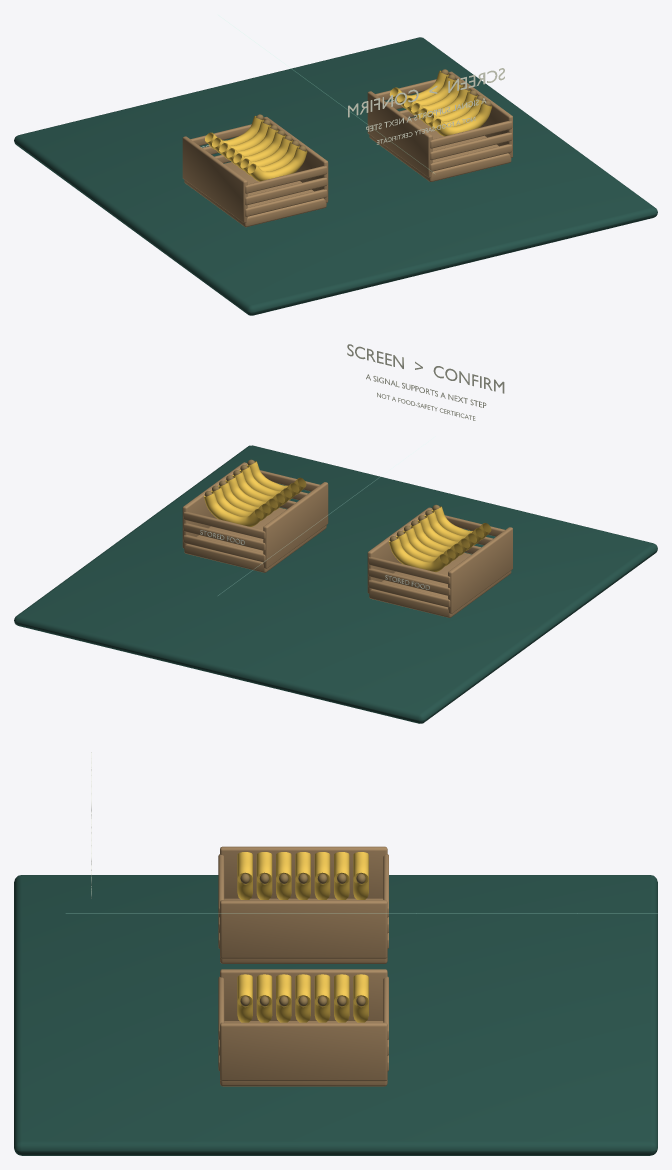
File: aerosense_06_return_v4.glb
3 views of the same model, one above another, from view 1: azimuth 30°, elevation 25°; view 2: azimuth 150°, elevation 25°; view 3: azimuth 270°, elevation 25° (orthographic). The views are drawn at different scales.
Parts seen in each view (by area): view 1: Return_floor, Crate_end, Crate_end.002, Batch_crate_base.001, Batch_crate_base, Act_heading, Crate_slats, Crate_slats.006, Crate_slats.010, Crate_slats.004, Crate_slats.002, Crate_slats.008 (+16 smaller); view 2: Return_floor, Crate_end.002, Crate_end, Batch_crate_base.001, Batch_crate_base, Act_heading, Crate_slats.007, Crate_slats.011, Crate_slats.005, Crate_slats.001, Crate_end.003, Crate_end.001 (+4 smaller); view 3: Return_floor, Crate_end.003, Crate_end.001, Crate_end, Crate_end.002, Batch_crate_base.001, Batch_crate_base, Banana.008, Banana.011, Banana.001, Banana.004, Banana.007 (+10 smaller).
Boxes of the visible parts, x1,y1,x2,y2 form: Return_floor: (14,37,657,315); Crate_end: (182,136,247,222); Crate_end.002: (367,91,432,177); Batch_crate_base.001: (369,117,511,181); Batch_crate_base: (184,162,326,227); Act_heading: (348,68,504,117); Crate_slats: (245,189,327,216); Crate_slats.006: (430,144,512,171); Crate_slats.010: (430,121,512,148); Crate_slats.004: (245,166,327,193); Crate_slats.002: (245,177,327,205); Crate_slats.008: (430,132,512,160); Return_floor: (14,445,657,723); Crate_end.002: (263,482,328,568); Crate_end: (448,527,512,613); Batch_crate_base.001: (184,507,326,572); Batch_crate_base: (369,552,511,617); Act_heading: (347,344,504,393); Crate_slats.007: (183,535,265,562); Crate_slats.011: (183,511,265,539); Crate_slats.005: (368,557,450,584); Crate_slats.001: (368,580,450,607); Crate_end.003: (182,462,247,548); Crate_end.001: (367,507,432,593); Return_floor: (14,875,657,1155); Crate_end.003: (220,1022,387,1081); Crate_end.001: (220,900,387,958); Crate_end: (220,846,387,898); Crate_end.002: (220,969,387,1020); Batch_crate_base.001: (220,1021,387,1086); Batch_crate_base: (220,898,387,963); Banana.008: (256,974,272,1022); Banana.011: (314,974,330,1022); Banana.001: (256,852,272,899); Banana.004: (314,852,330,899); Banana.007: (237,974,252,1022).
Size of the model in its own units: 10 by 3.75 by 10.
